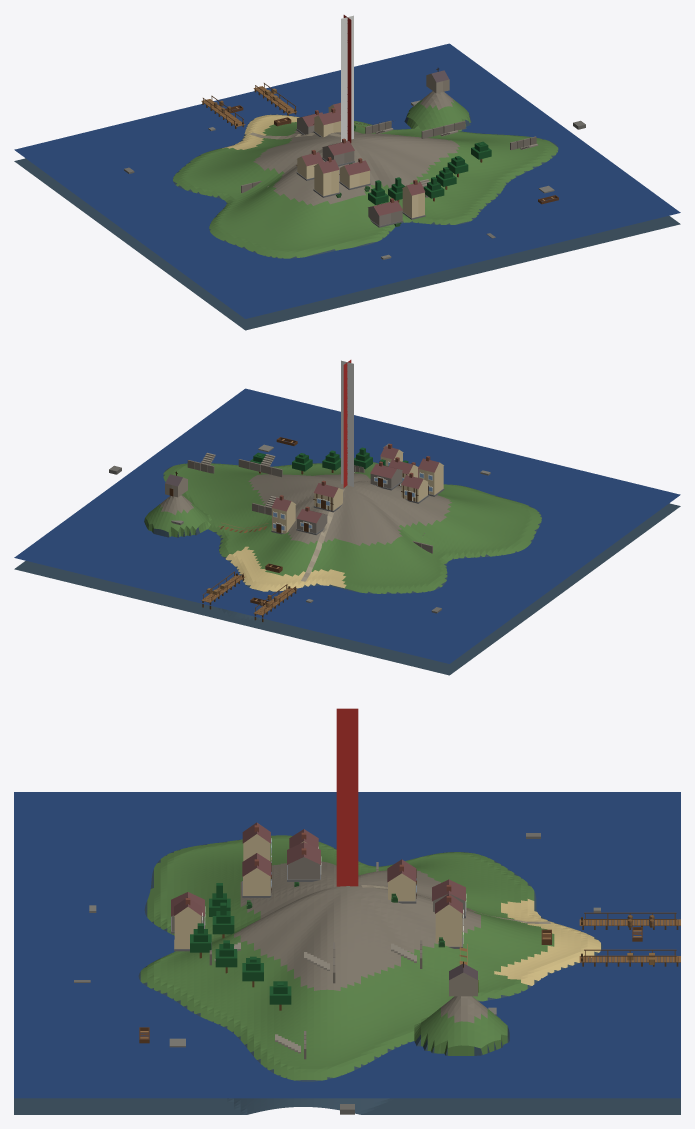
File: scene_bad_v5_path_gap.obj
3 views of the same model, one above another, from view 1: azimuth 30°, elevation 25°; view 2: azimuth 150°, elevation 25°; view 3: azimuth 270°, elevation 25° (orthographic). The views are drawn at different scales.
Visible parts, largest first — view 1: water, terrain, lighthouse_tower, house_3_two_story, house_9_two_story, house_4_timber, house_8_stone, house_2_stone, house_7_timber, wall_3, house_1_timber; view 2: water, terrain, lighthouse_tower, house_6_two_story, house_3_two_story, house_7_timber, house_2_stone, house_5_stone, house_1_timber, wall_3, wall_2, pier_1; view 3: water, terrain, lighthouse_tower, house_6_two_story, house_2_stone, house_4_timber, house_9_two_story, house_7_timber, pier_2, pier_1, house_3_two_story, chapel_1 (+2 smaller).
Part boxes in pixels (<box>): water: <box>14,43,680,318</box>; terrain: <box>14,91,680,330</box>; lighthouse_tower: <box>341,15,353,142</box>; house_3_two_story: <box>313,157,339,197</box>; house_9_two_story: <box>402,179,425,219</box>; house_4_timber: <box>339,158,370,189</box>; house_8_stone: <box>368,198,403,227</box>; house_2_stone: <box>322,138,354,166</box>; house_7_timber: <box>313,108,340,137</box>; wall_3: <box>365,120,538,150</box>; house_1_timber: <box>296,150,323,180</box>; water: <box>14,388,680,663</box>; terrain: <box>14,462,680,675</box>; lighthouse_tower: <box>341,360,353,487</box>; house_6_two_story: <box>271,495,295,534</box>; house_3_two_story: <box>418,456,444,496</box>; house_7_timber: <box>313,480,343,512</box>; house_2_stone: <box>370,461,402,490</box>; house_5_stone: <box>296,506,327,535</box>; house_1_timber: <box>401,472,428,503</box>; wall_3: <box>187,452,278,515</box>; wall_2: <box>238,454,282,477</box>; pier_1: <box>253,584,297,621</box>; water: <box>14,792,680,1098</box>; terrain: <box>14,835,680,1114</box>; lighthouse_tower: <box>336,708,358,886</box>; house_6_two_story: <box>435,894,463,948</box>; house_2_stone: <box>287,842,321,881</box>; house_4_timber: <box>242,853,271,897</box>; house_9_two_story: <box>174,897,202,951</box>; house_7_timber: <box>387,859,416,903</box>; pier_2: <box>579,949,680,966</box>; pier_1: <box>579,912,680,929</box>; house_3_two_story: <box>242,822,271,878</box>; chapel_1: <box>449,961,478,996</box>.
Bounding box in the file's own units: 104 × 38.5 × 92.
